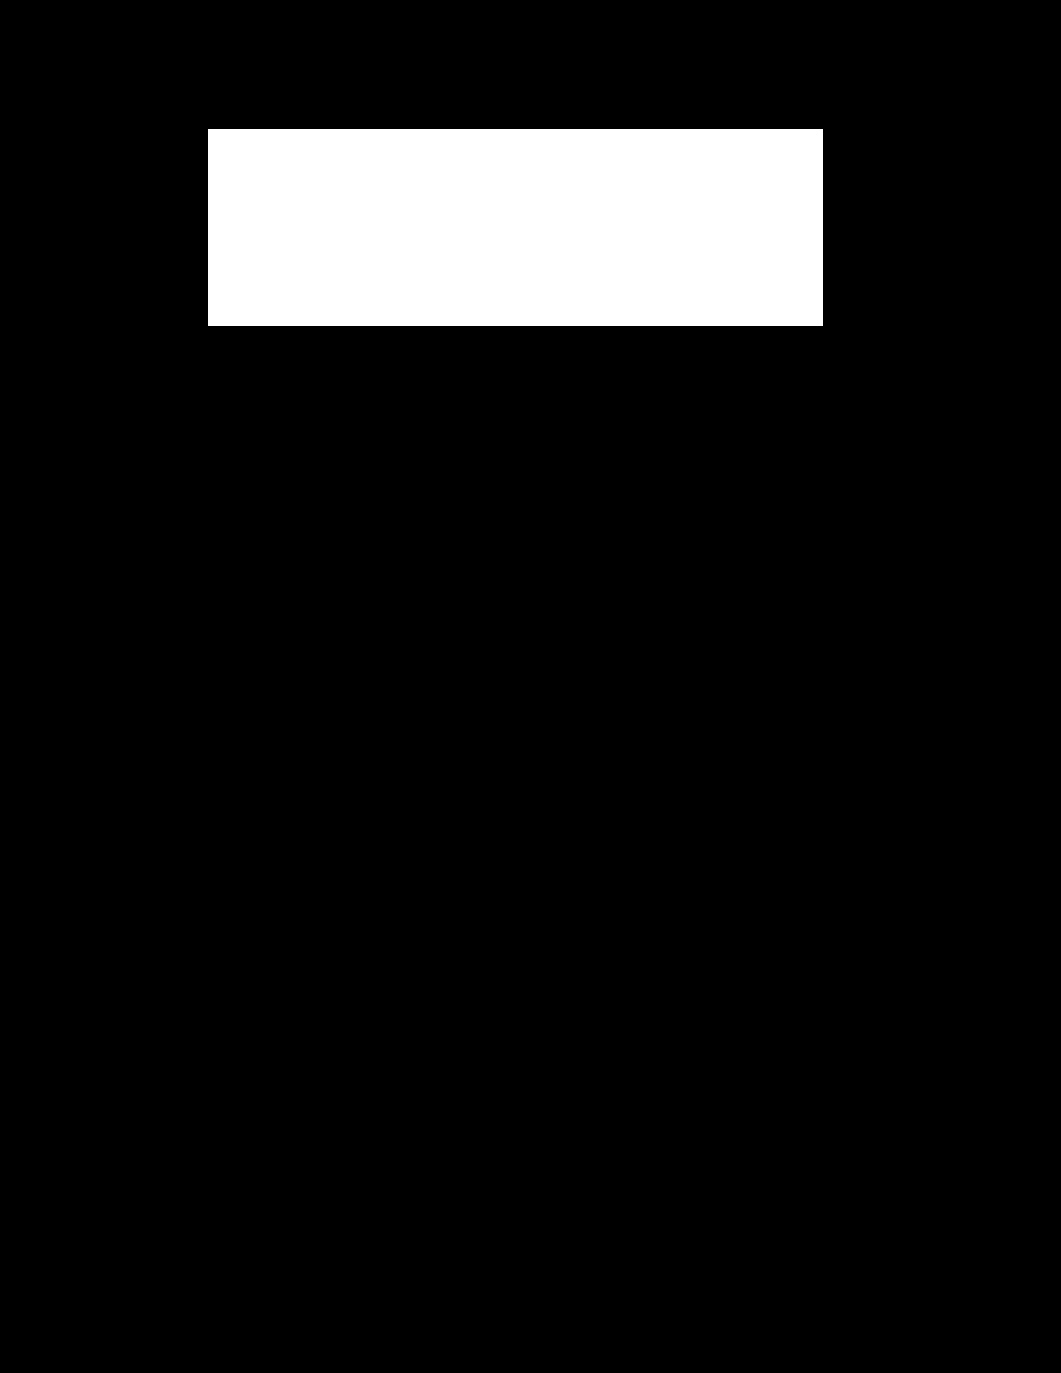table: (208, 129, 822, 325)
